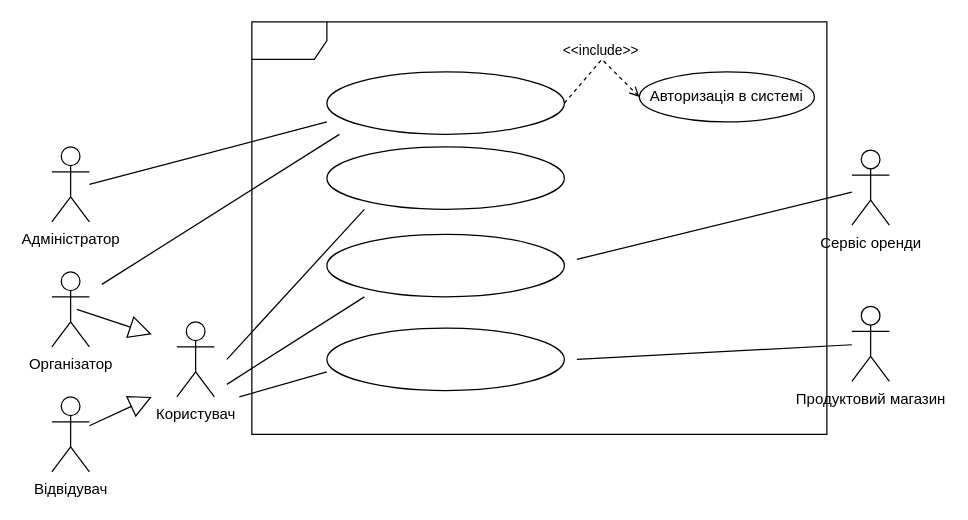
Image size: 968x520. Some labels were removed from this diagram. The centre of each missing label's shape, as x and y in pixels:
"Бронювання житла" goes at point 445,265.
"Ознайомлення з заходами" goes at point 445,177.
"Створення оголошення про захід" goes at point 445,102.
"Створення споживчого пакету" goes at point 445,359.
